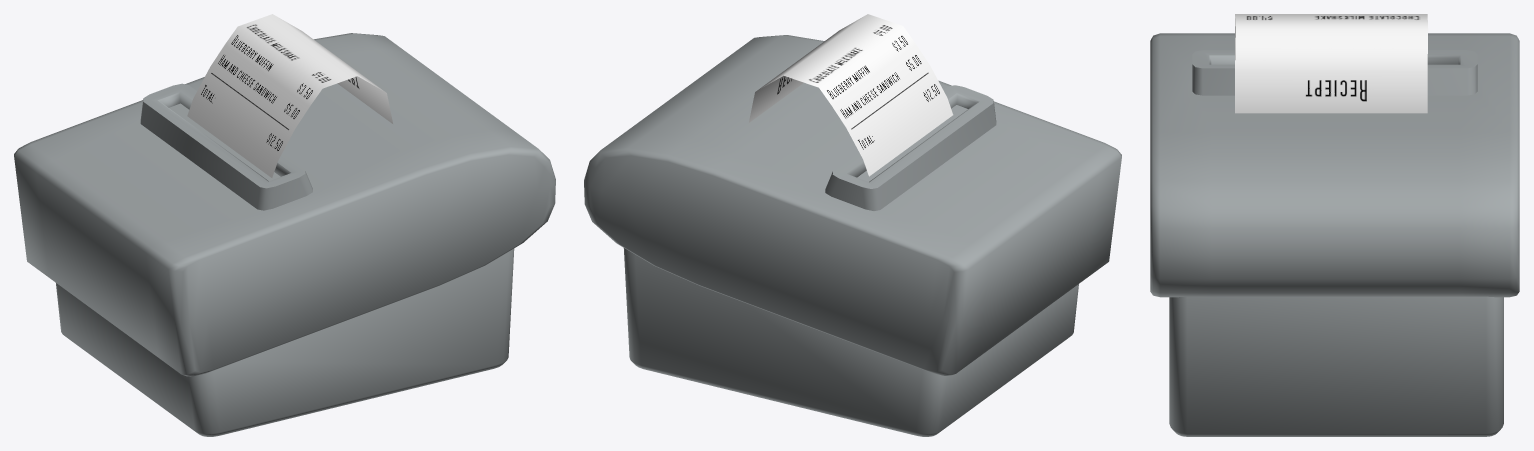
Rendered from recieptPrinter.fbx.
3 views of the same model, side by side, from view 1: azimuth 30°, elevation 25°; view 2: azimuth 150°, elevation 25°; view 3: azimuth 270°, elevation 25° (orthographic). The views are drawn at different scales.
Parts seen in each view (by area): view 1: Plane; view 2: Plane; view 3: Plane.
Boxes of the visible parts, box(x1,y1,x2,y2) form: Plane: box(14, 14, 555, 436); Plane: box(584, 14, 1121, 436); Plane: box(1150, 14, 1519, 436).
Bounding box in the file's own units: 22.71 × 16.77 × 16.54.
Materials: 2 (1 with a texture image).
